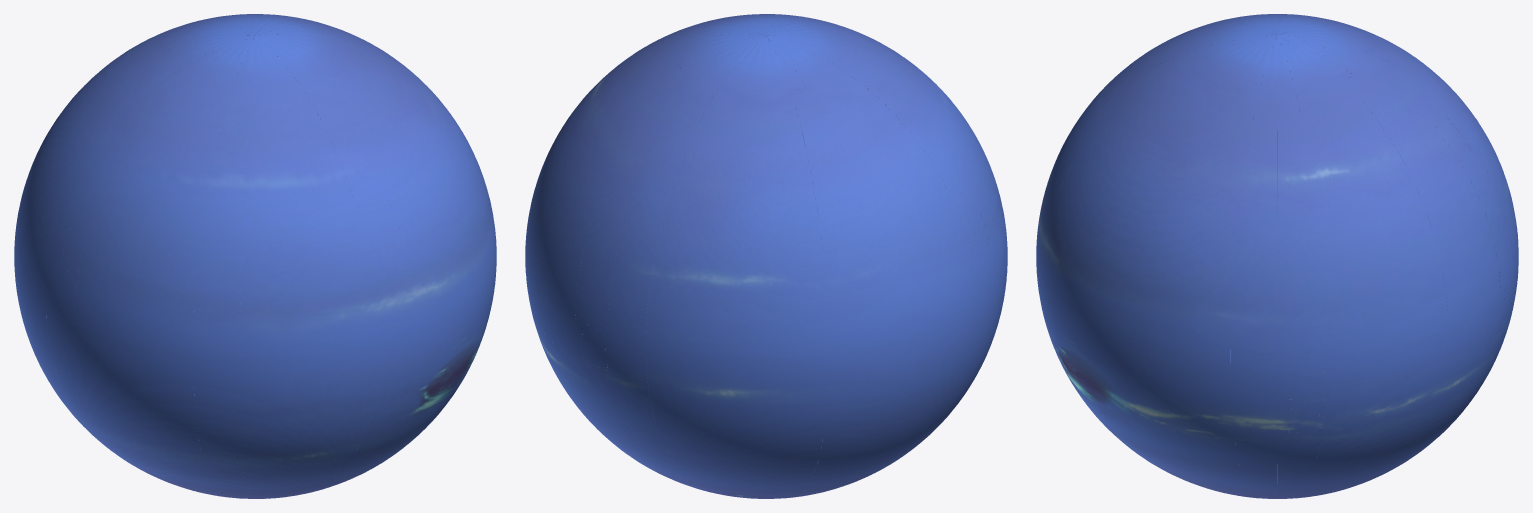
3 renders of one model, left to right at view 1: azimuth 30°, elevation 25°; view 2: azimuth 150°, elevation 25°; view 3: azimuth 270°, elevation 25°, orthographic.
Visible parts, largest first — view 1: Sphere_2; view 2: Sphere_2; view 3: Sphere_2.
Part boxes in pixels (box(x1,y1,x2,y2)): Sphere_2: box(14, 14, 496, 498); Sphere_2: box(525, 14, 1007, 498); Sphere_2: box(1036, 14, 1518, 498).
Bounding box in the file's own units: 1.97 × 2 × 1.97.
Materials: 1 (1 with a texture image).
